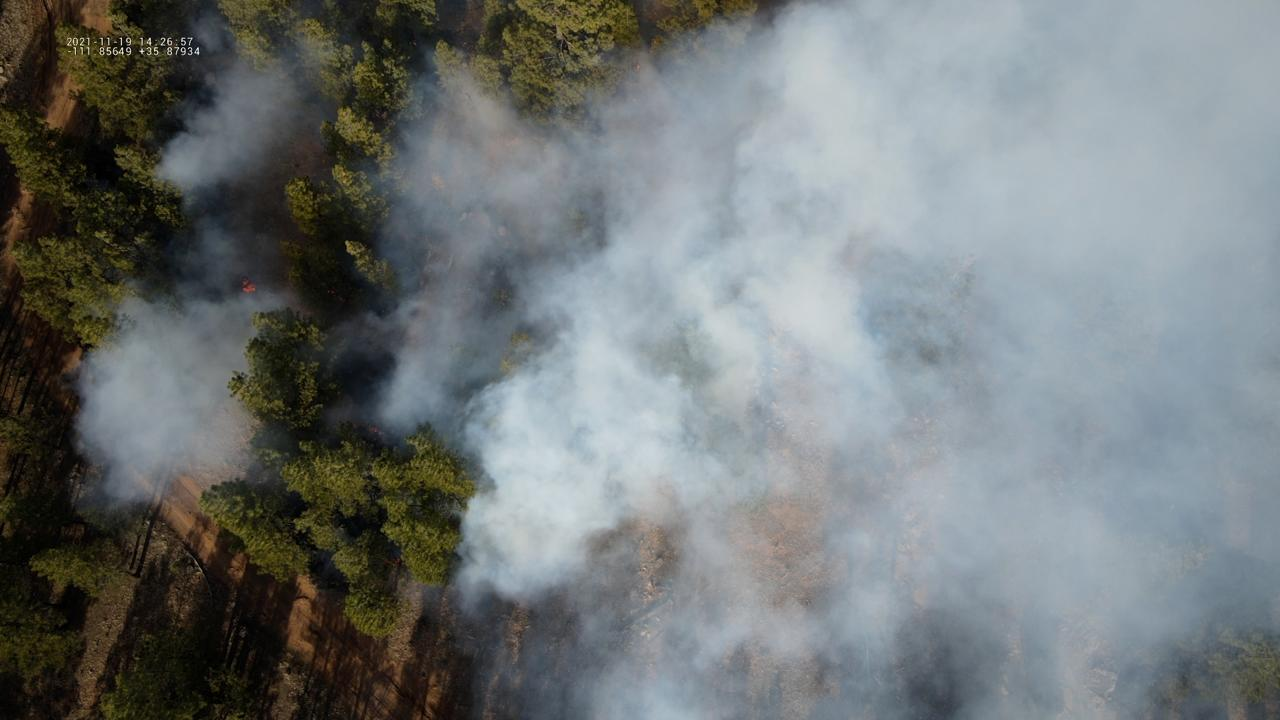fire: (241, 274, 257, 293)
smoke: (57, 0, 1280, 720)
